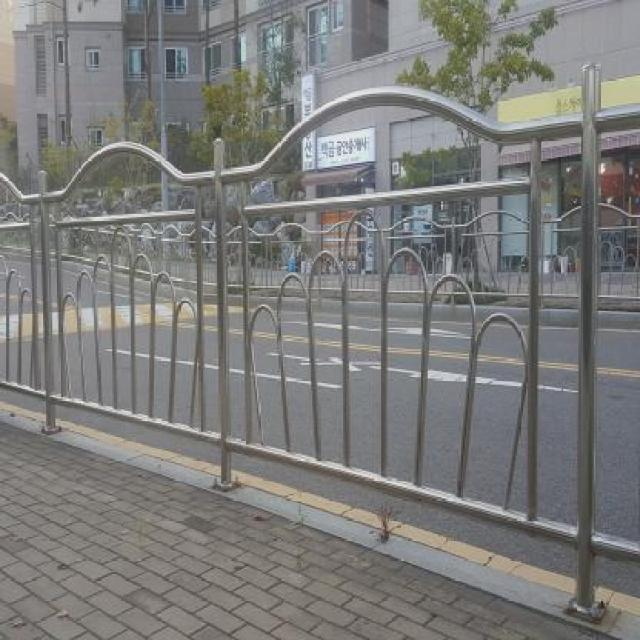fence: (206, 109, 594, 627), (0, 116, 258, 486)
